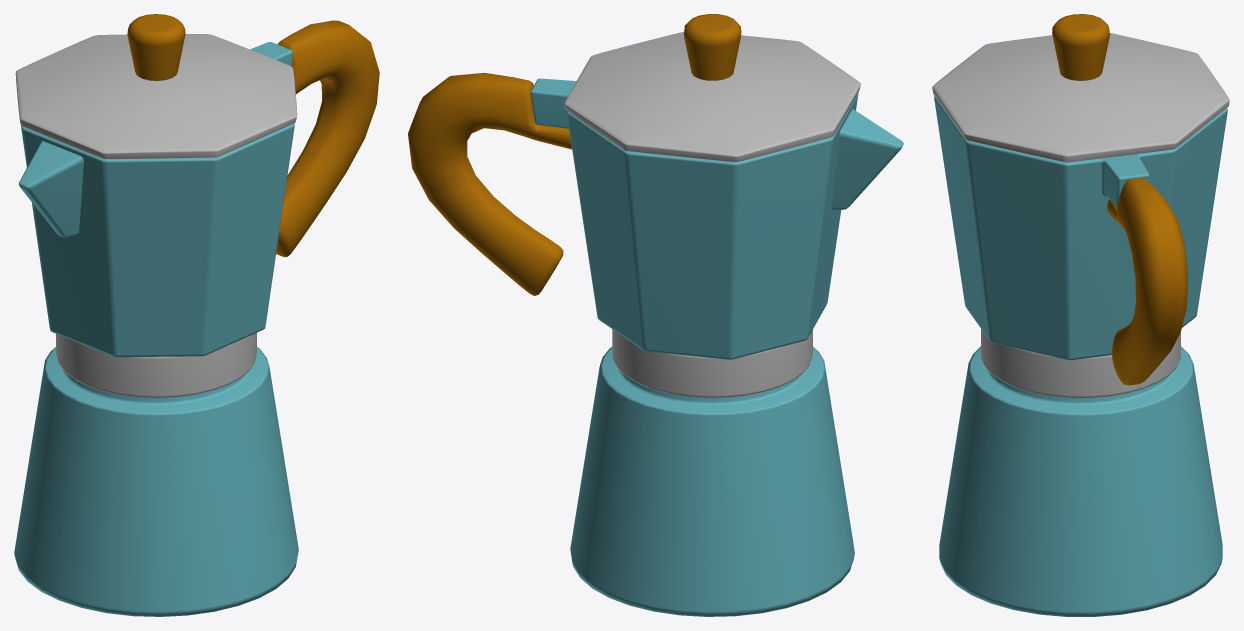
File: SM_mokapot.glb
The picture shows the model from 3 angles, left to right: view 1: azimuth 30°, elevation 25°; view 2: azimuth 150°, elevation 25°; view 3: azimuth 270°, elevation 25°; orthographic projection.
Visible parts, largest first — view 1: SM_mokapot; view 2: SM_mokapot; view 3: SM_mokapot.
Part boxes in pixels (<box>): SM_mokapot: <box>14,14,379,616</box>; SM_mokapot: <box>408,14,903,616</box>; SM_mokapot: <box>932,14,1229,616</box>.
Bounding box in the file's own units: 0.4807 × 0.5812 × 0.2922.
Materials: 2 (2 with a texture image).
